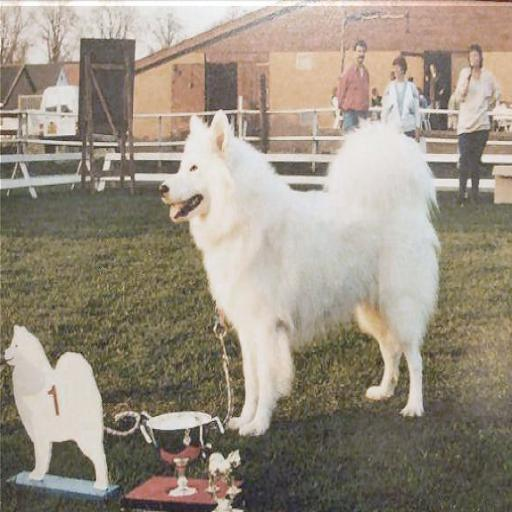dog_face: (159, 110, 228, 229)
